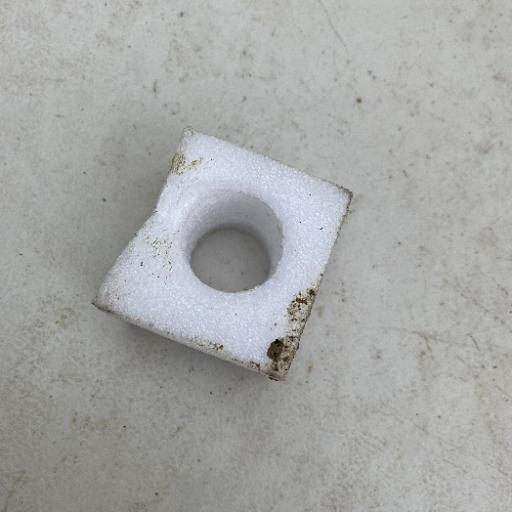Plastic: (89, 123, 355, 384)
